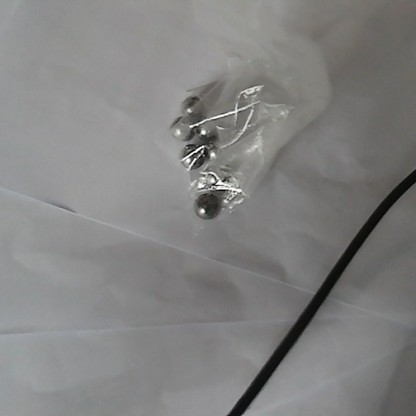ironball: (192, 188, 221, 219), (164, 114, 192, 140), (176, 143, 205, 168), (203, 166, 230, 188), (179, 92, 203, 116), (193, 118, 217, 141), (206, 146, 225, 160)
